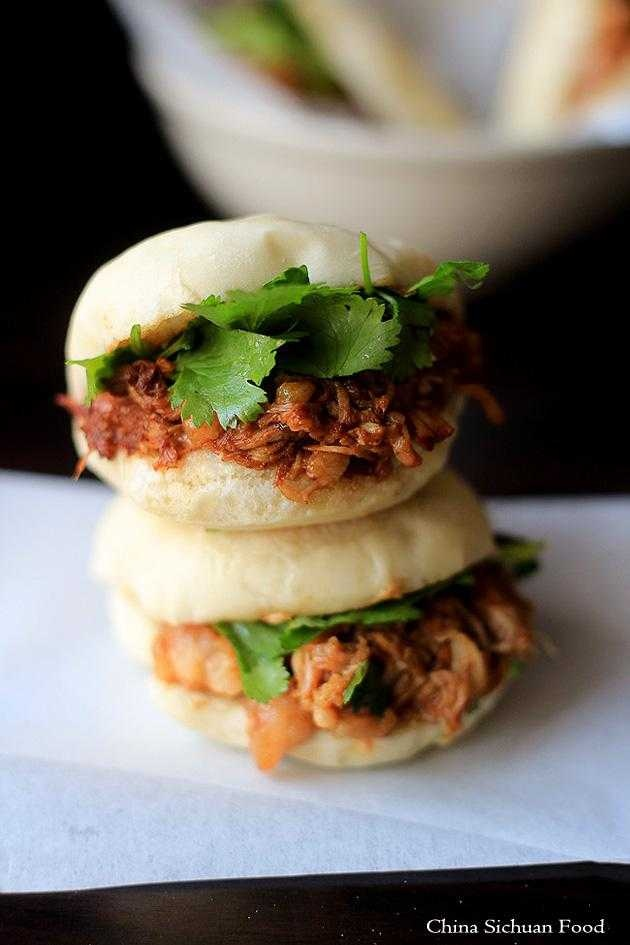soup: (59, 186, 486, 533), (126, 448, 535, 767)
